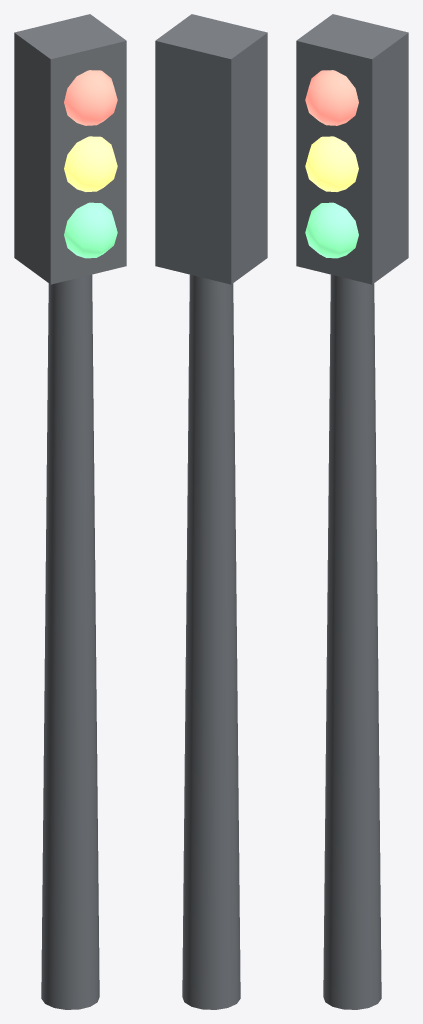
The model's file is TrafficLight.glb.
The picture shows the model from 3 angles, left to right: view 1: azimuth 30°, elevation 25°; view 2: azimuth 150°, elevation 25°; view 3: azimuth 330°, elevation 25°; orthographic projection.
Visible parts, largest first — view 1: model; view 2: model; view 3: model.
Boxes of the visible parts, x1,y1,x2,y2 form: model: (14, 14, 126, 1009); model: (155, 14, 267, 1009); model: (296, 14, 408, 1009).
Bounding box in the file's own units: 0.3 × 3.62 × 0.355.
